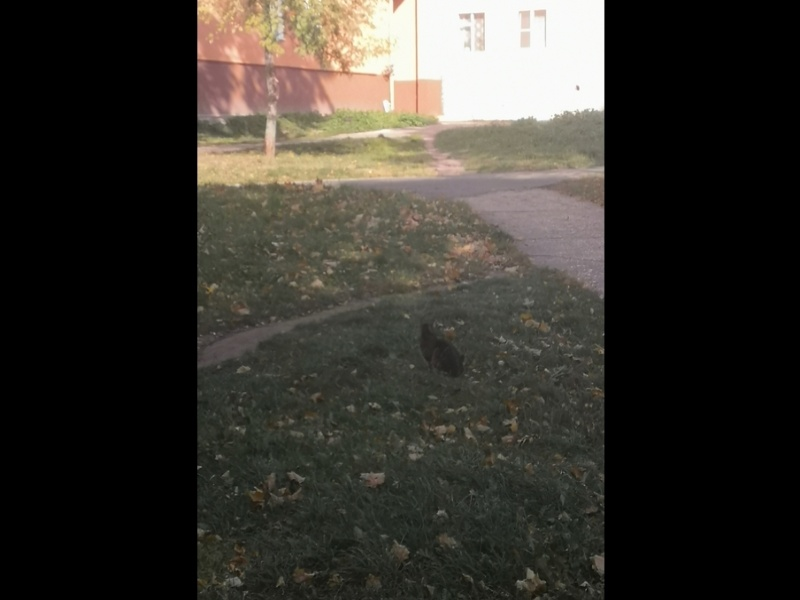cat: (418, 323, 467, 383)
